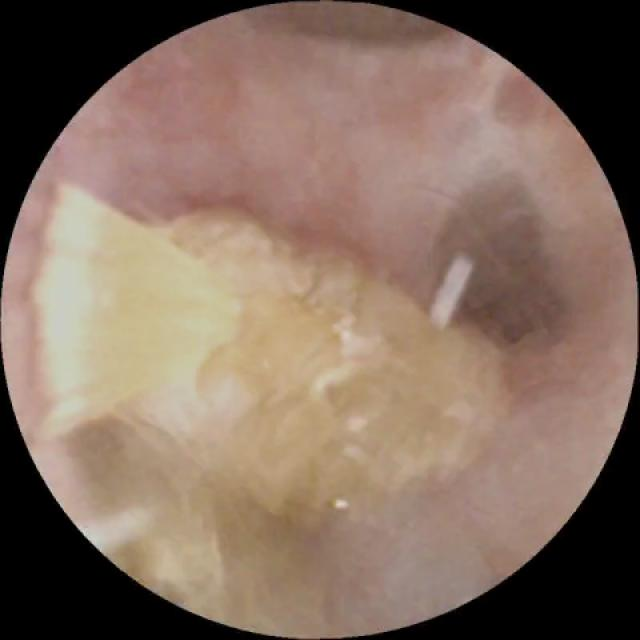stone: (33, 186, 505, 625)
tissue: (59, 14, 617, 612)
